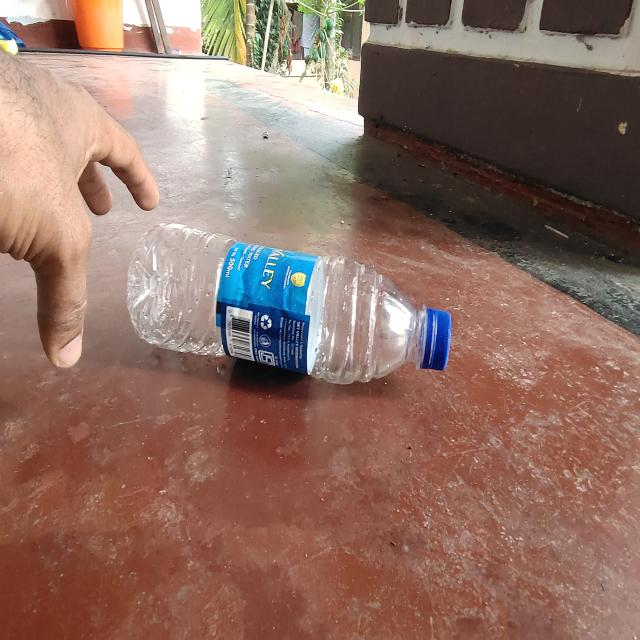plastic: (124, 221, 453, 387)
